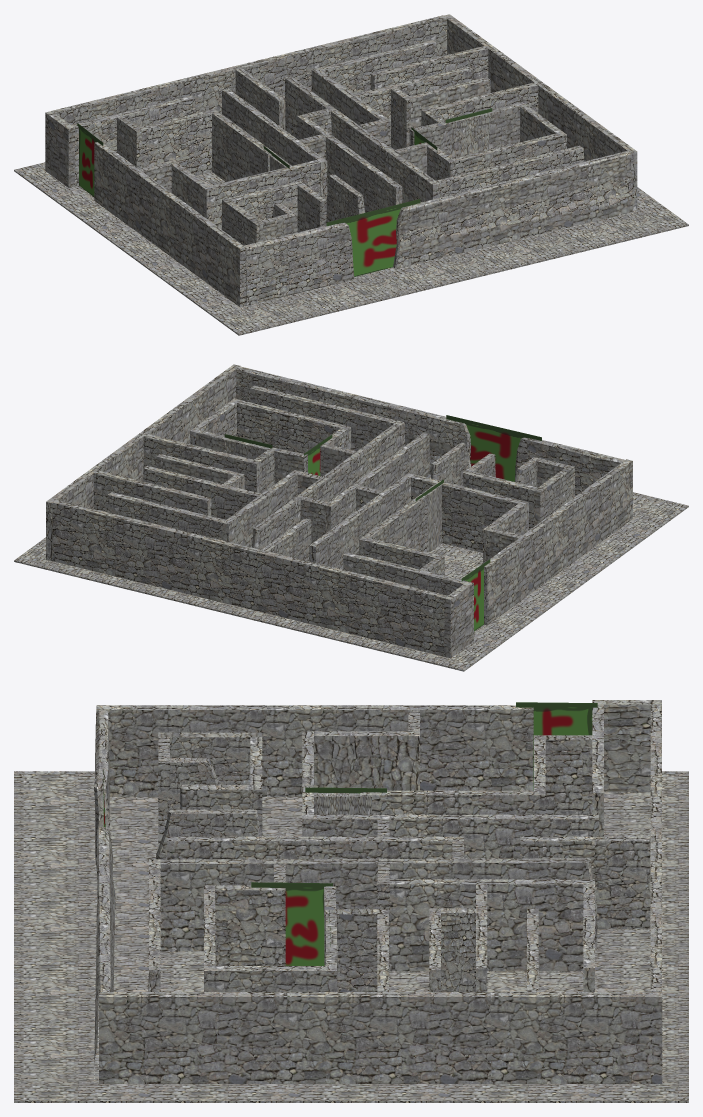
The model's file is Labirint4.gltf.
The picture shows the model from 3 angles, top to bottom: view 1: azimuth 30°, elevation 25°; view 2: azimuth 150°, elevation 25°; view 3: azimuth 270°, elevation 25°; orthographic projection. The views are drawn at different scales.
Visible parts, largest first — view 1: tla, wall.035, wall.040, wall.030, wall.01, wall.02, wall.010, wall.026, wall.08, Trigger.001, wall.06, wall.032 (+29 smaller); view 2: wall.030, tla, wall.040, wall.02, wall.035, wall.010, wall.05, wall.016, wall.06, wall.019, wall.08, wall.037 (+28 smaller); view 3: tla, wall.02, wall.040, wall.010, wall.012, wall.031, wall.043, wall.08, wall.04, wall.015, wall.028, wall.032 (+28 smaller).
Part boxes in pixels (x1=…): tla: x1=14, y1=147, x2=688, y2=335; wall.035: x1=393, y1=151, x2=632, y2=268; wall.040: x1=94, y1=142, x2=246, y2=307; wall.030: x1=52, y1=15, x2=446, y2=124; wall.01: x1=244, y1=222, x2=354, y2=305; wall.02: x1=444, y1=14, x2=637, y2=210; wall.010: x1=285, y1=76, x2=435, y2=203; wall.026: x1=139, y1=110, x2=211, y2=175; wall.08: x1=297, y1=114, x2=402, y2=212; Trigger.001: x1=326, y1=199, x2=420, y2=276; wall.06: x1=222, y1=89, x2=327, y2=199; wall.032: x1=208, y1=109, x2=276, y2=181; wall.030: x1=52, y1=500, x2=447, y2=656; tla: x1=14, y1=474, x2=688, y2=671; wall.040: x1=484, y1=459, x2=632, y2=625; wall.02: x1=46, y1=364, x2=239, y2=561; wall.035: x1=236, y1=366, x2=471, y2=474; wall.010: x1=251, y1=423, x2=400, y2=549; wall.05: x1=411, y1=474, x2=528, y2=552; wall.016: x1=237, y1=400, x2=350, y2=453; wall.06: x1=310, y1=474, x2=414, y2=569; wall.019: x1=250, y1=385, x2=404, y2=451; wall.08: x1=324, y1=433, x2=429, y2=533; wall.037: x1=93, y1=470, x2=211, y2=515; tla: x1=14, y1=771, x2=688, y2=1102; wall.02: x1=99, y1=992, x2=662, y2=1083; wall.040: x1=96, y1=705, x2=533, y2=796; wall.010: x1=160, y1=858, x2=597, y2=951; wall.012: x1=389, y1=879, x2=594, y2=971; wall.031: x1=520, y1=836, x2=650, y2=928; wall.043: x1=302, y1=814, x2=598, y2=858; wall.08: x1=167, y1=836, x2=463, y2=859; wall.04: x1=314, y1=731, x2=419, y2=790; wall.015: x1=215, y1=885, x2=285, y2=965; wall.028: x1=592, y1=700, x2=661, y2=792; wall.032: x1=358, y1=790, x2=545, y2=814.
Bounding box in the file's own units: 407 × 56.22 × 353.
10 materials, 10 textured.
